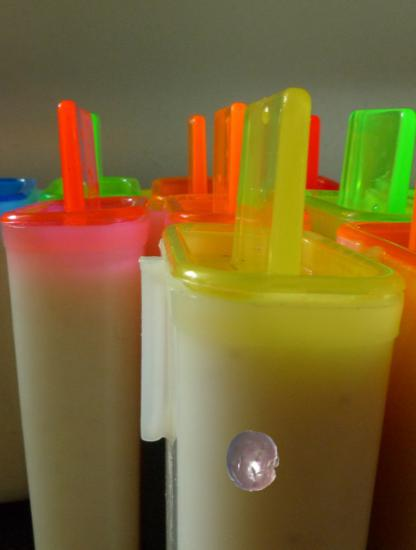Passion: (222, 430, 285, 493)
